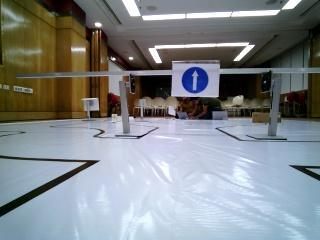straight: (175, 61, 220, 95)
